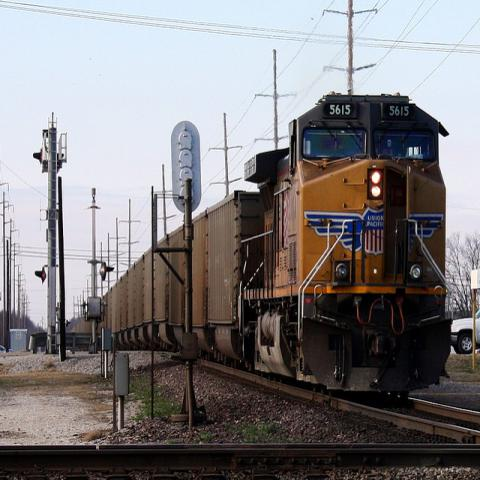car: (451, 308, 479, 354)
